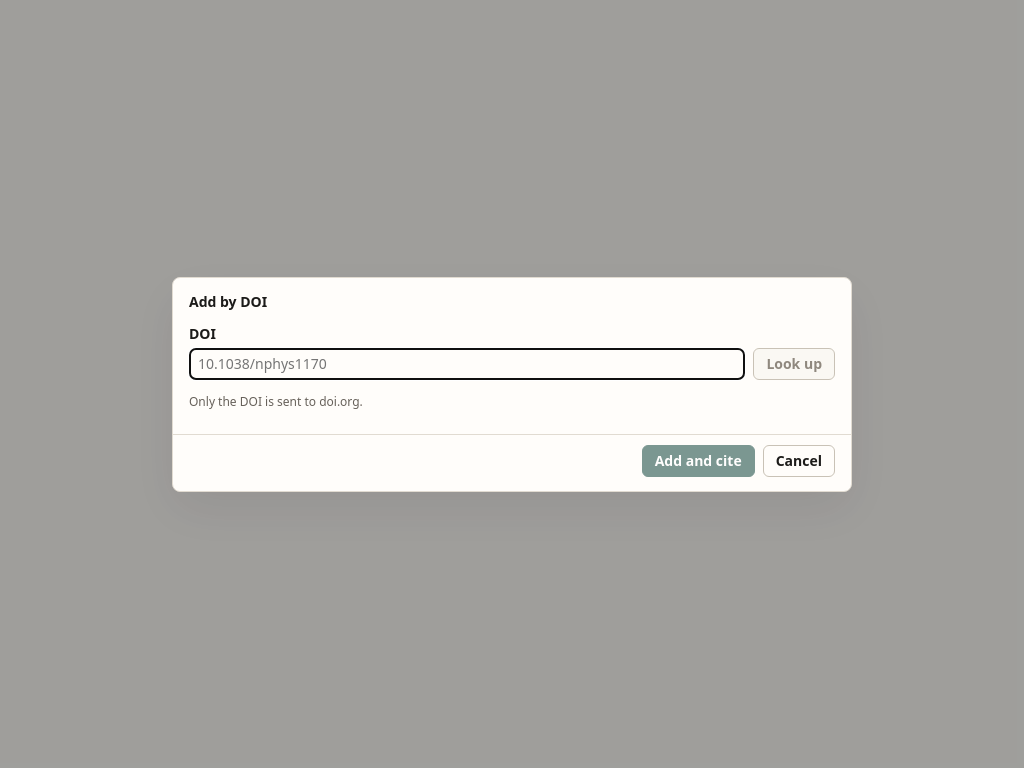
DoiDialog › says a new references.bib is created when the project has none
Later steps or results of the test are not shown.
Type "10.1/x" into the field labelled "DOI". click: coordinates (467, 364)
box: [189, 348, 745, 380]
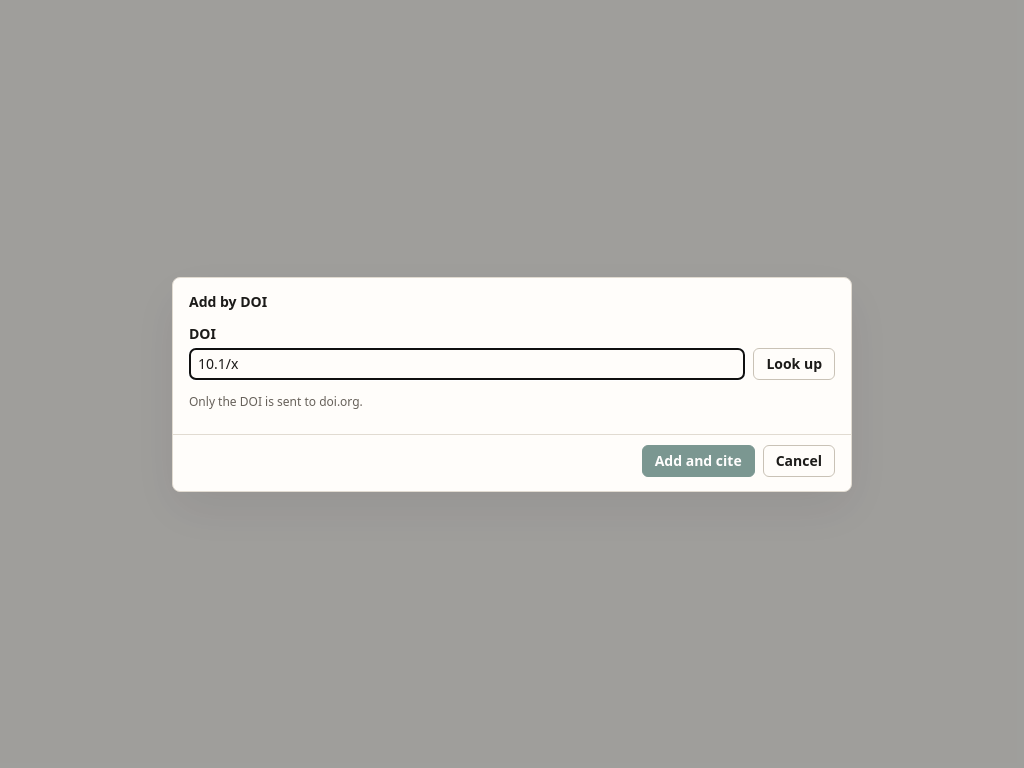
Click the button "Look up". click: coordinates (794, 364)
box: [753, 348, 835, 380]
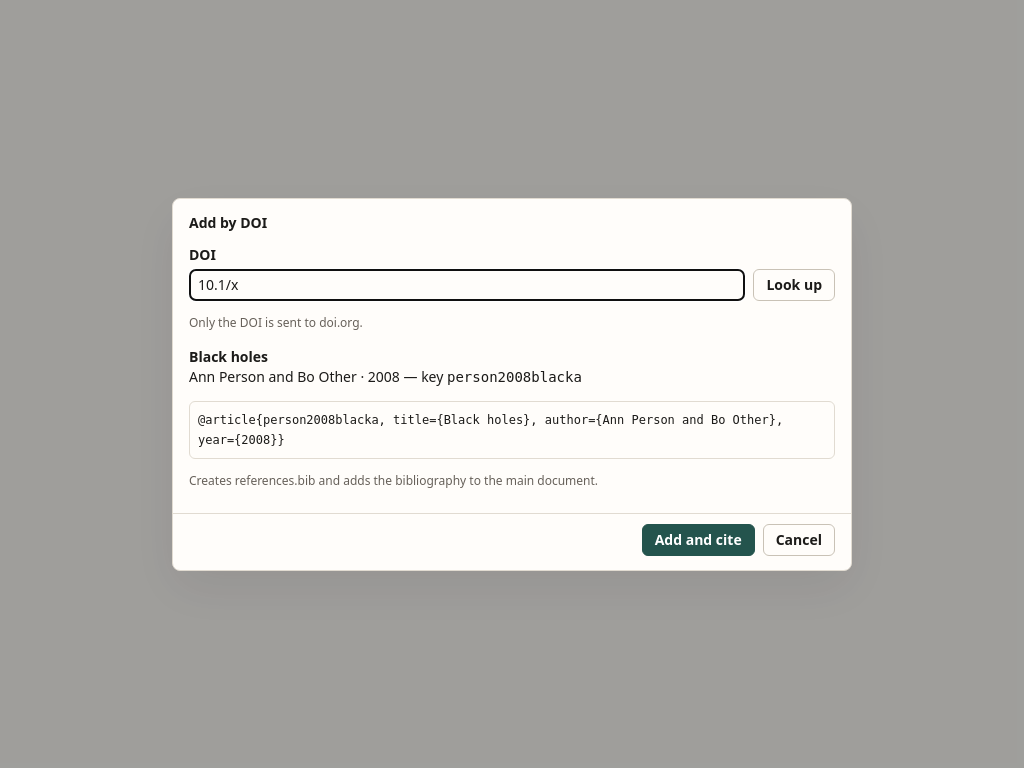
Check: the text "Creates references.bib" is shown, box [189, 472, 598, 488]
